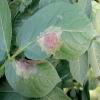Potato leaf early blight: (16, 1, 99, 61), (5, 57, 63, 96)
